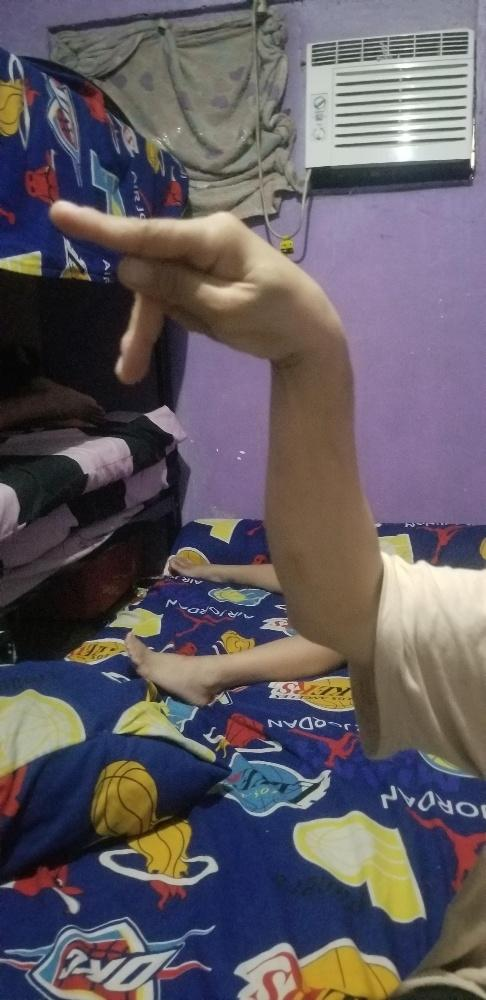p: (46, 197, 342, 381)
